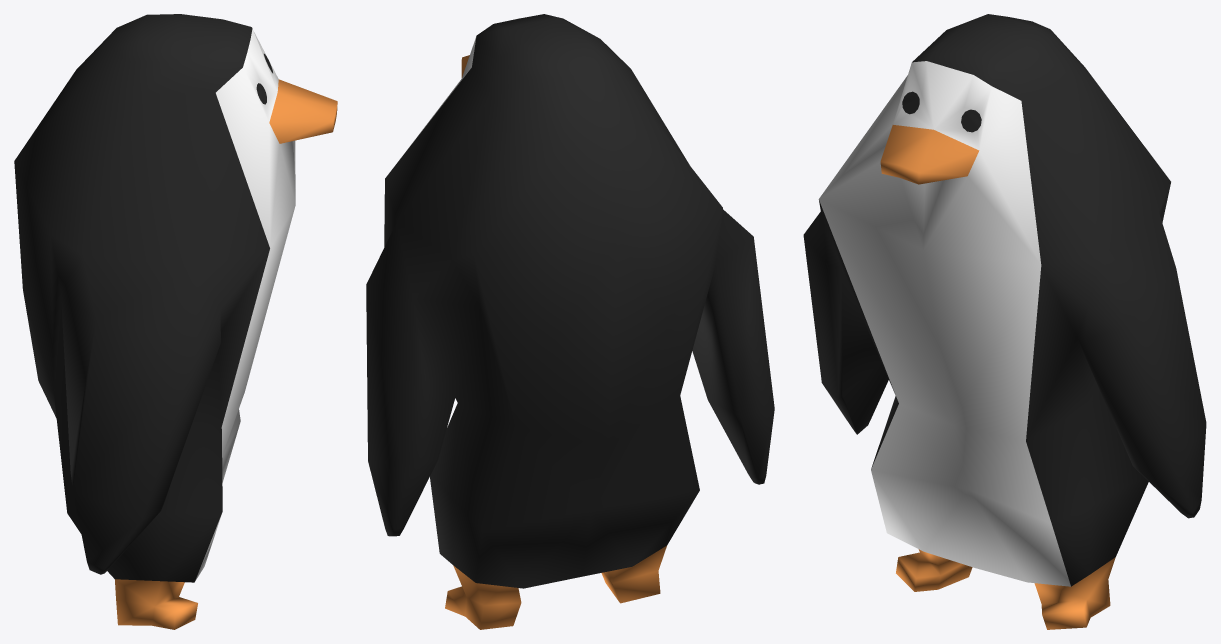
The model's file is BuffGoopie.gltf.
3 renders of one model, left to right at view 1: azimuth 30°, elevation 25°; view 2: azimuth 150°, elevation 25°; view 3: azimuth 270°, elevation 25°, orthographic. The views are drawn at different scales.
Visible parts, largest first — view 1: Goopie DO NOT ADD ANIMATIONS.001; view 2: Goopie DO NOT ADD ANIMATIONS.001; view 3: Goopie DO NOT ADD ANIMATIONS.001.
Boxes of the visible parts, box(x1,y1,x2,y2) form: Goopie DO NOT ADD ANIMATIONS.001: box(14, 14, 337, 629); Goopie DO NOT ADD ANIMATIONS.001: box(366, 14, 774, 629); Goopie DO NOT ADD ANIMATIONS.001: box(803, 14, 1206, 629).
Bounding box in the file's own units: 0.4966 × 0.8771 × 0.5538.
1 material, 1 textured.
